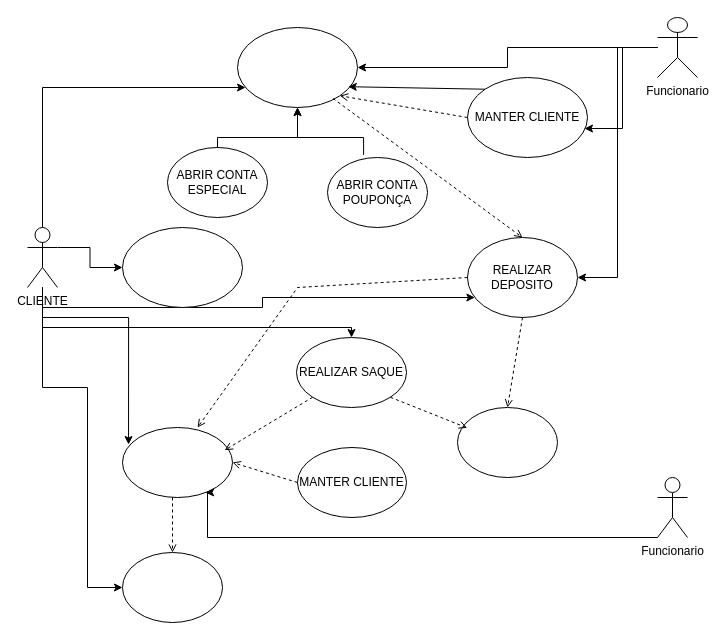
Some shapes in this 726 by 640 pixel diagram are drawn without their labels. Each missing label, with the centre of its shape:
"ABRIR CONTA COMUM" belongs at point 297,67.
"EMITIR EXTRATO" belongs at point 182,267.
"EMITIR SALDO" belongs at point 172,587.
"ENCERAR CONTA" belongs at point 177,462.
"REGISTRAR MOVIMENTO" belongs at point 507,442.
